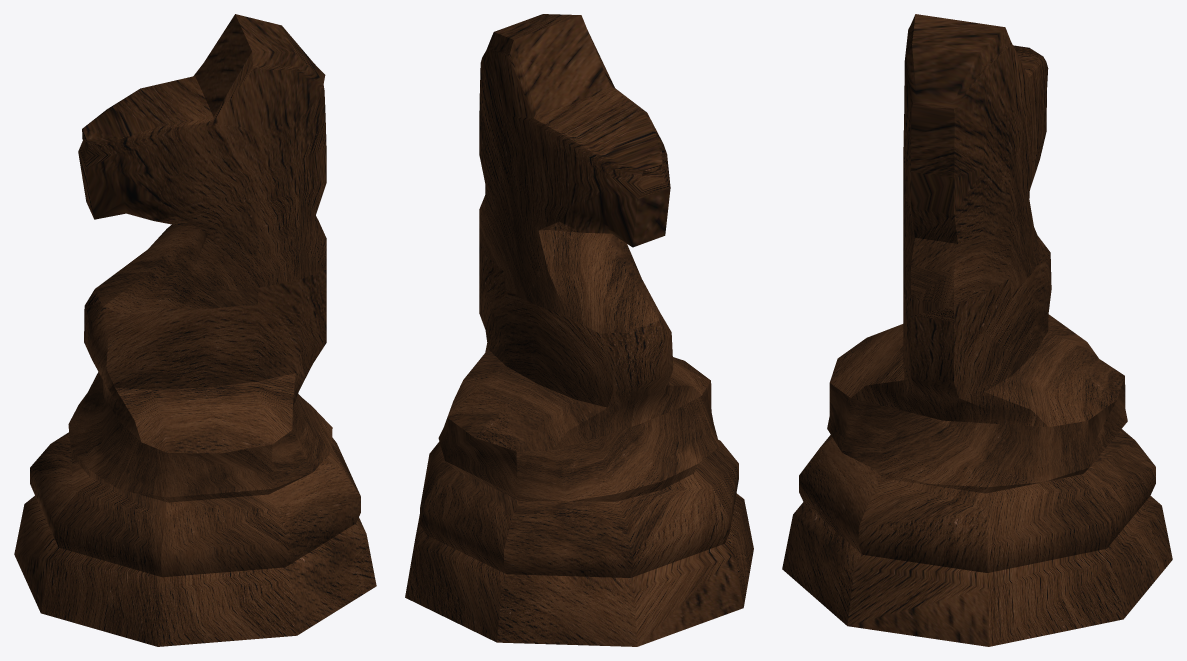
Rendered from BlackKnight.gltf.
3 renders of one model, left to right at view 1: azimuth 30°, elevation 25°; view 2: azimuth 150°, elevation 25°; view 3: azimuth 270°, elevation 25°, orthographic. The views are drawn at different scales.
Visible parts, largest first — view 1: Object_22; view 2: Object_22; view 3: Object_22.
Part boxes in pixels (bbox=[...]): Object_22: bbox=[14, 14, 376, 646]; Object_22: bbox=[405, 14, 753, 646]; Object_22: bbox=[782, 14, 1172, 646].
Size of the model in its own units: 0.0296 by 0.0472 by 0.0296.
Materials: 1 (1 with a texture image).
